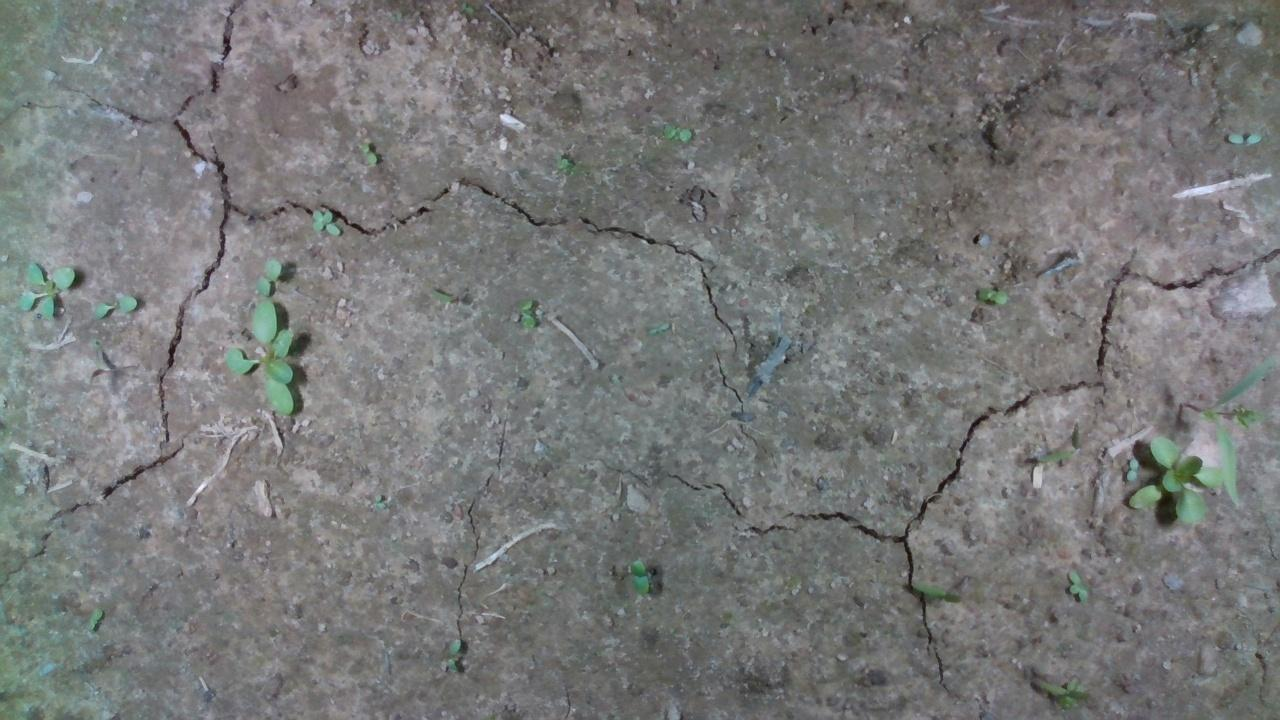weed: (91, 288, 152, 328), (308, 204, 343, 242), (623, 556, 654, 596), (978, 281, 1022, 307), (660, 117, 697, 147), (439, 634, 467, 672), (1061, 564, 1088, 599), (512, 293, 533, 334), (1223, 128, 1265, 147), (77, 606, 104, 635), (354, 137, 377, 166), (643, 317, 679, 335), (549, 150, 575, 173)
